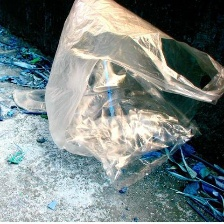plastic_bag: (41, 0, 223, 193)
